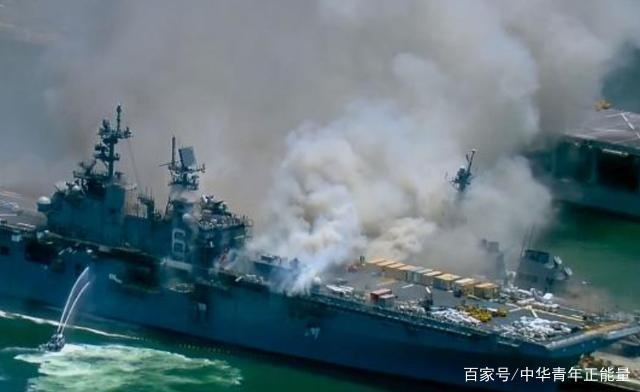warship: (4, 102, 632, 384)
